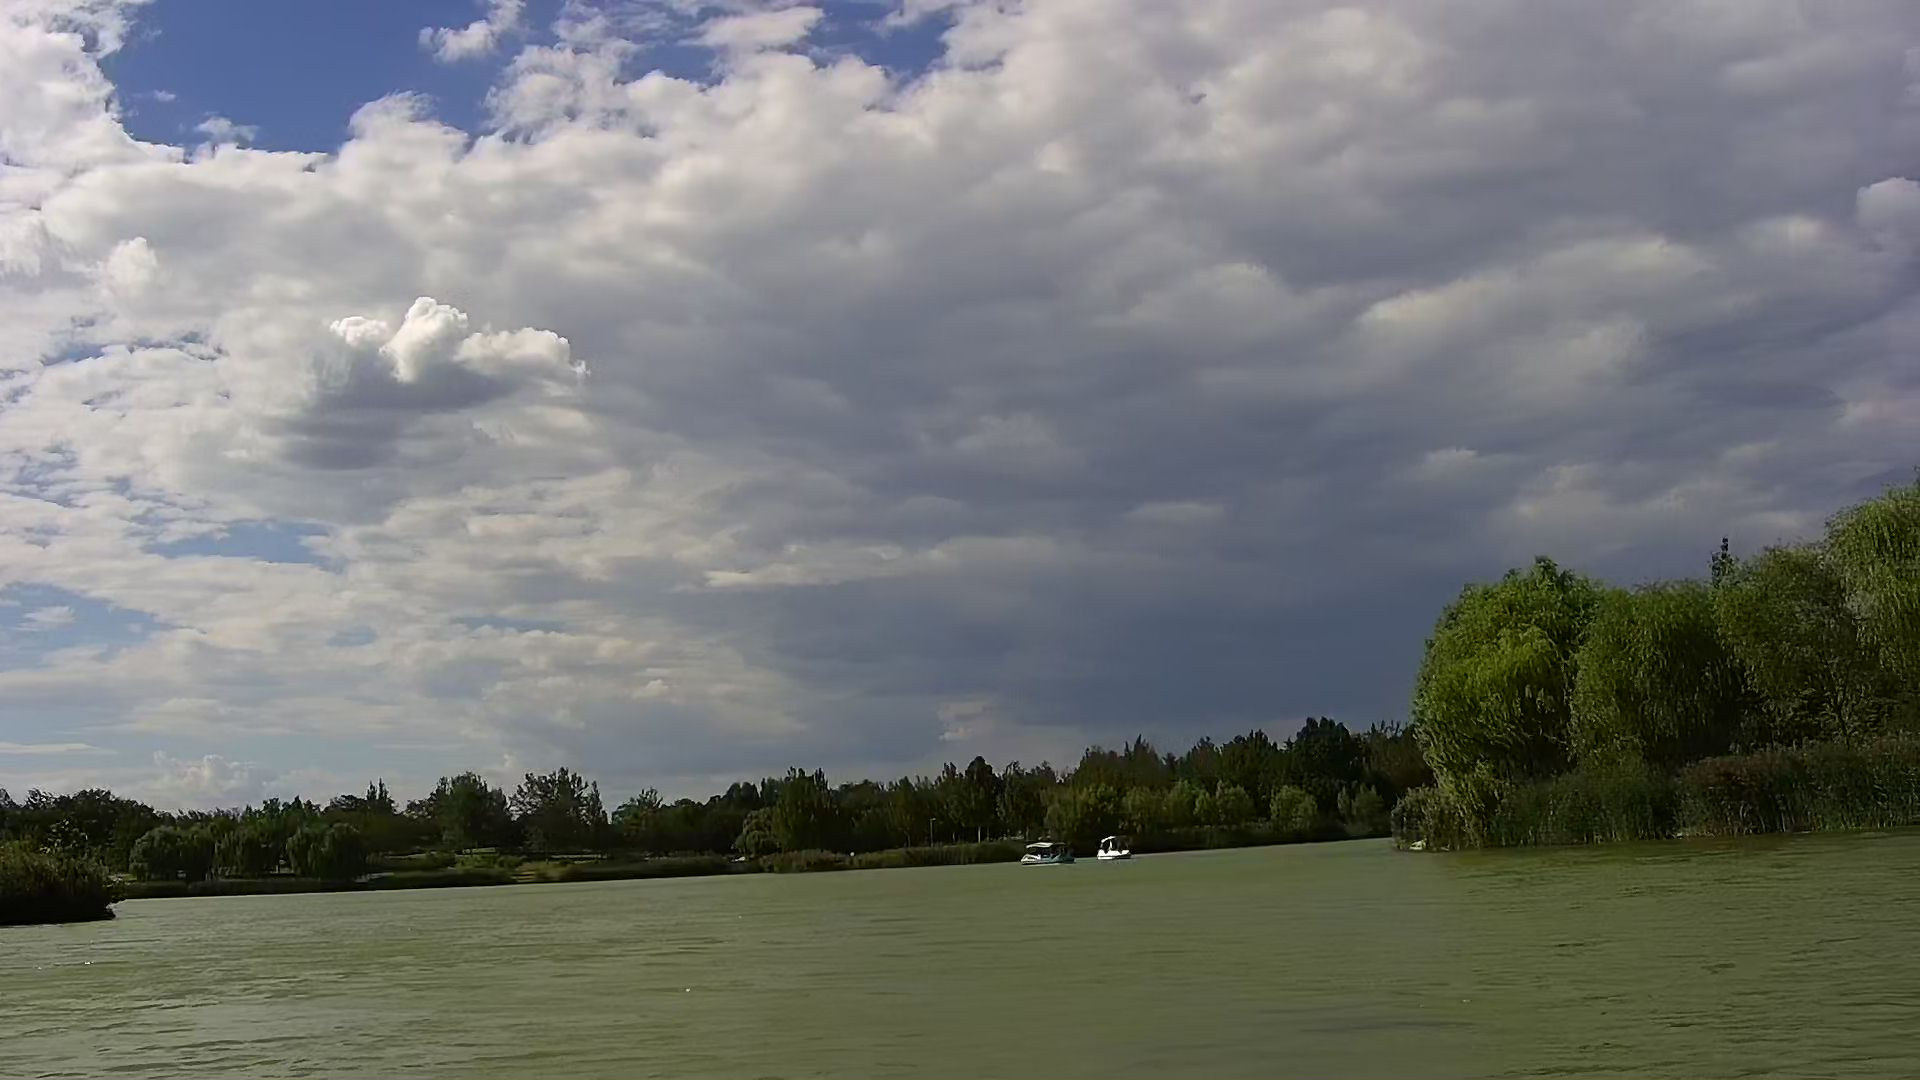boat: (1018, 837, 1083, 869), (1091, 836, 1133, 864)
rock: (1407, 837, 1429, 855)
